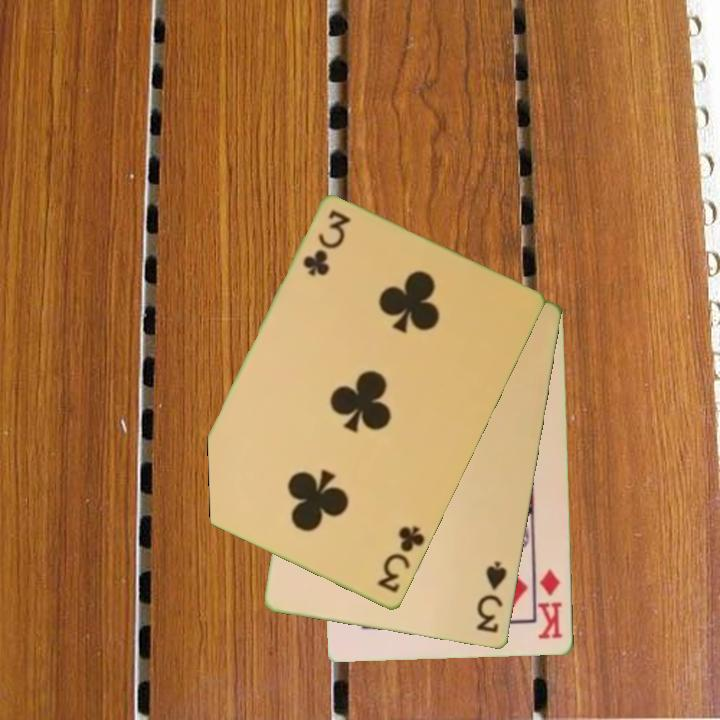3c: (374, 523, 429, 596), (299, 207, 353, 280)
3s: (473, 558, 511, 636)
Kd: (535, 566, 566, 643)
